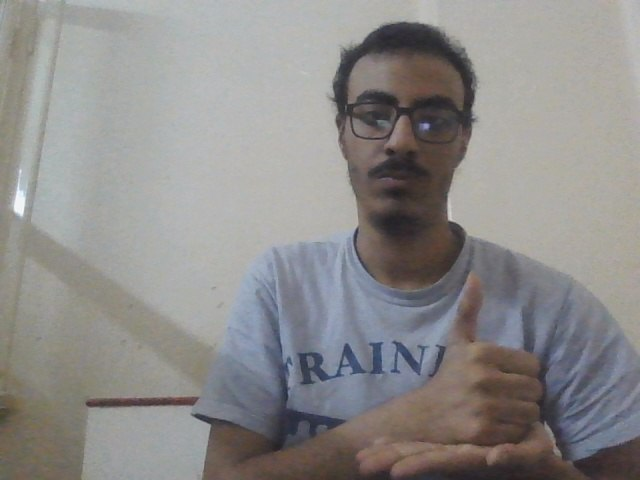Help: (349, 265, 564, 480)
